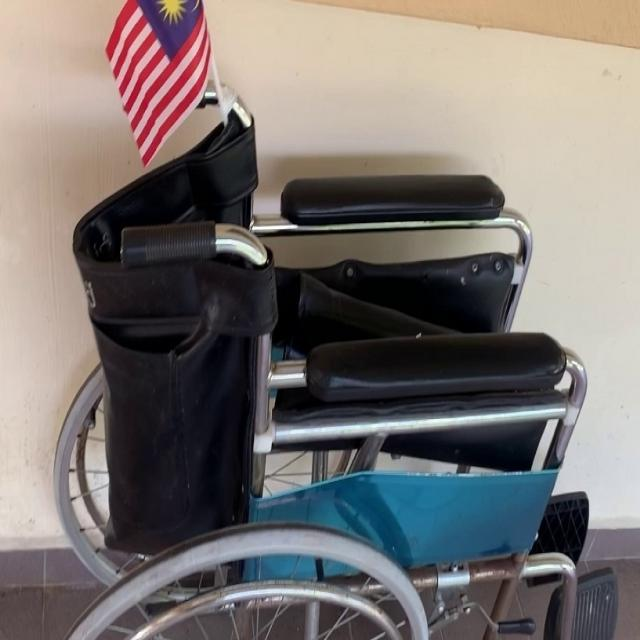wheelchair: (45, 0, 626, 640)
